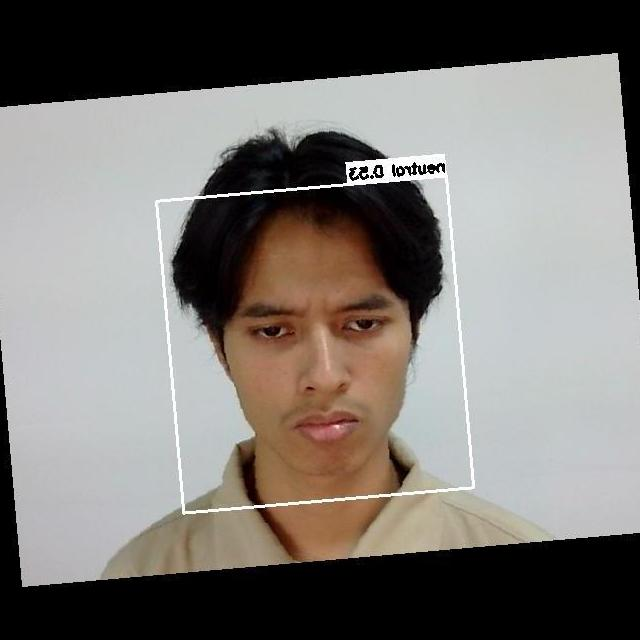Sad: (236, 272, 419, 447)
